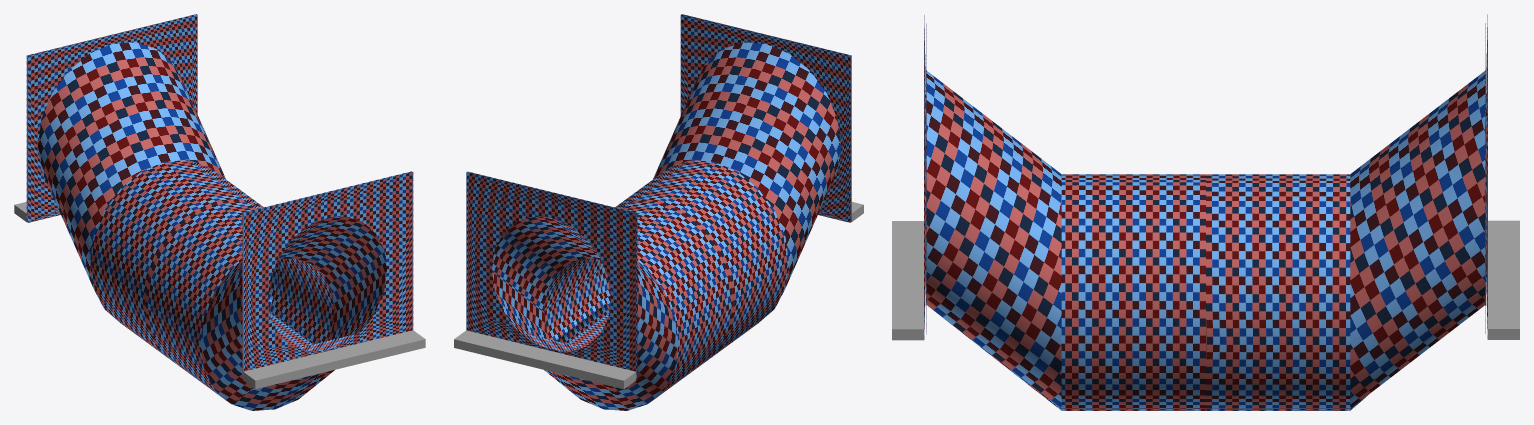
Rendered from awkward_tunnel.fbx.
The picture shows the model from 3 angles, left to right: view 1: azimuth 30°, elevation 25°; view 2: azimuth 150°, elevation 25°; view 3: azimuth 270°, elevation 25°; orthographic projection. The views are drawn at different scales.
Parts seen in each view (by area): view 1: Akward_tunnel_01; view 2: Akward_tunnel_01; view 3: Akward_tunnel_01.
Part boxes in pixels (box(x1,y1,x2,y2)): Akward_tunnel_01: box(14, 14, 425, 410); Akward_tunnel_01: box(454, 14, 863, 410); Akward_tunnel_01: box(892, 14, 1519, 410).
Bounding box in the file's own units: 803 × 1147 × 1959.
Materials: 3 (2 with a texture image).
